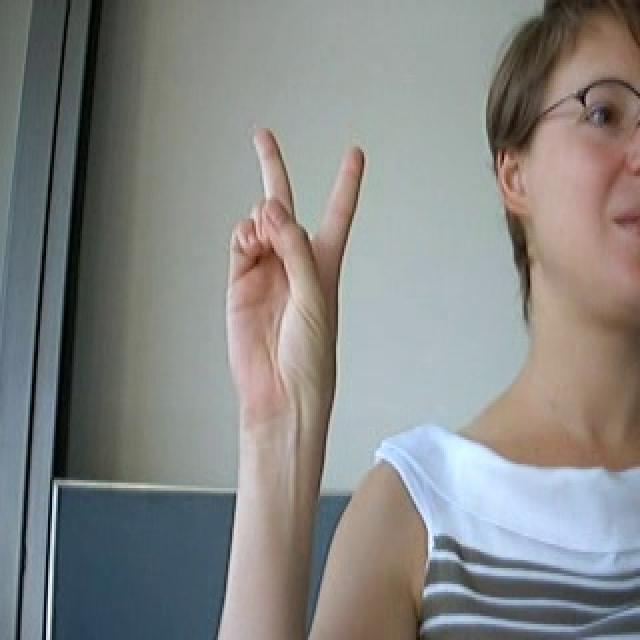V: (215, 111, 375, 424)
